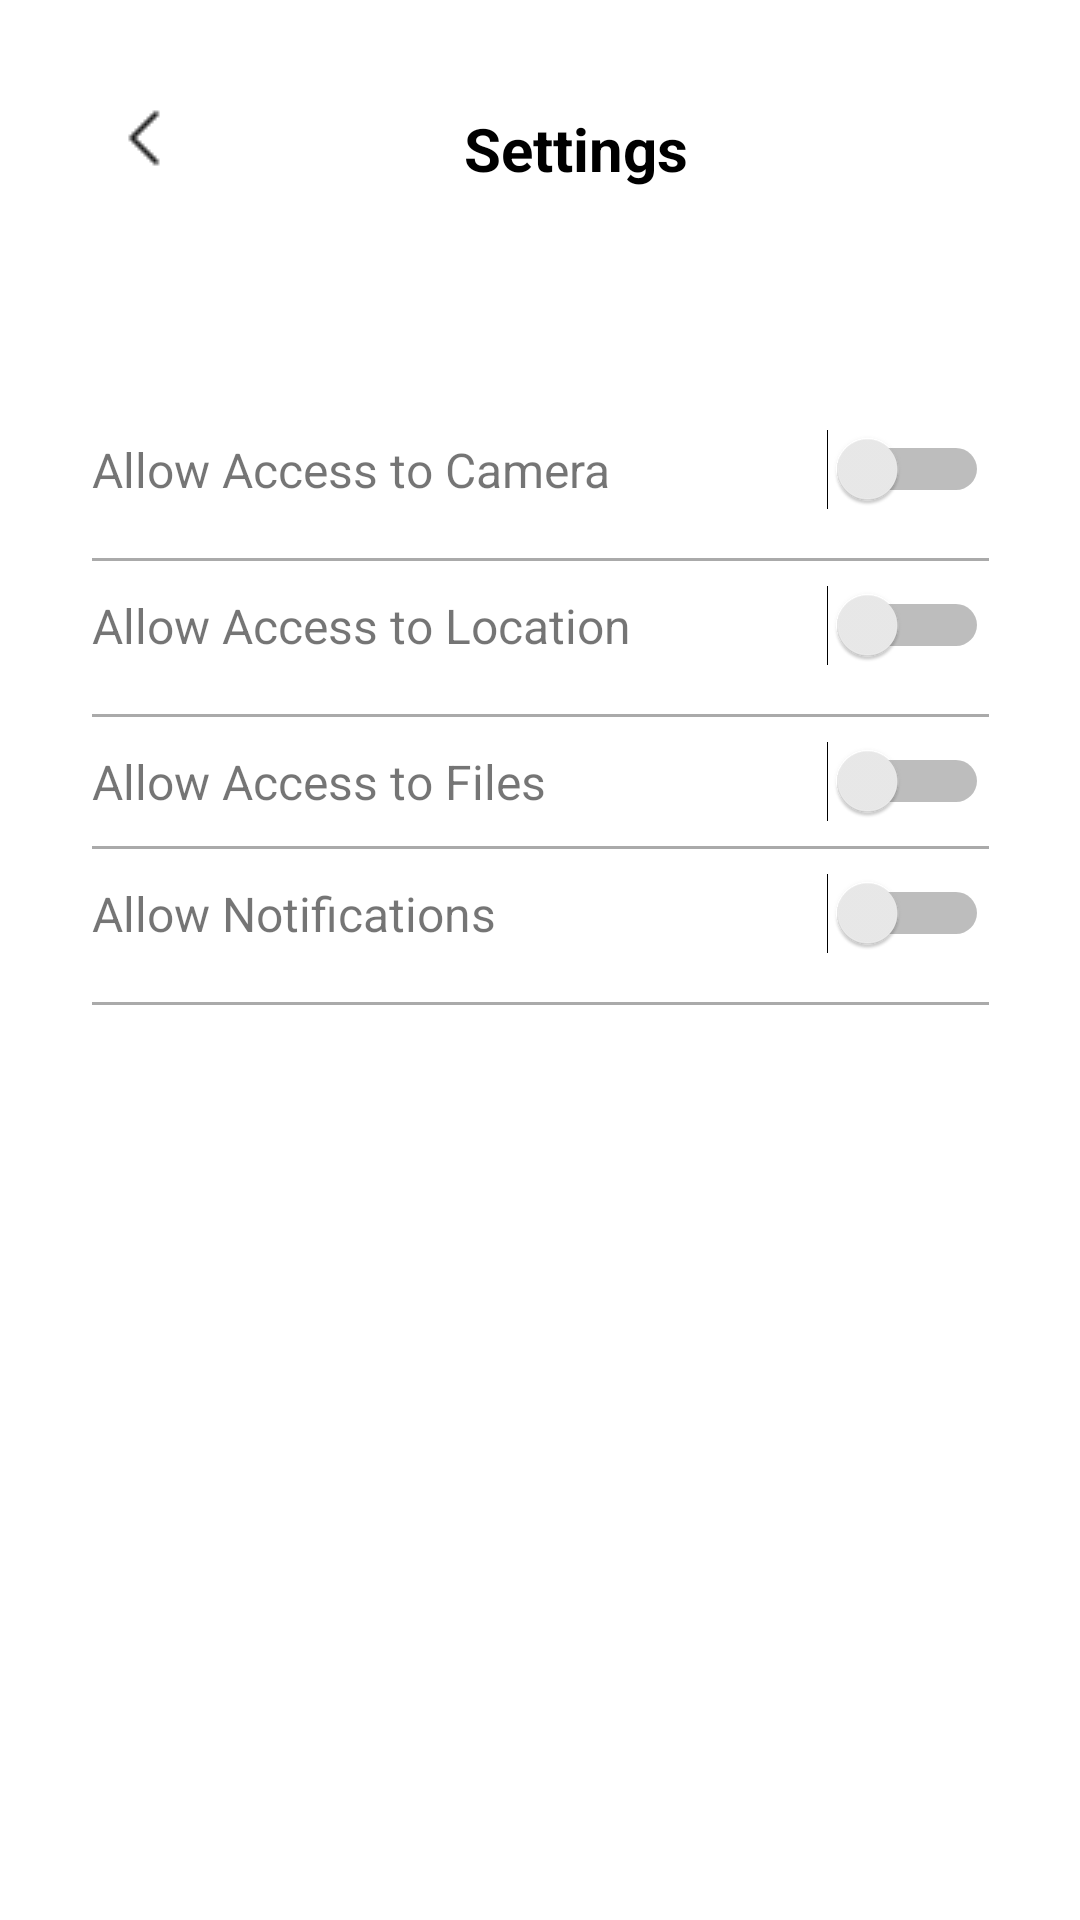

Icon click points for this 1080*1920 phone screenshot, format (x=x, y=y):
backbutton: (x=144, y=138)
